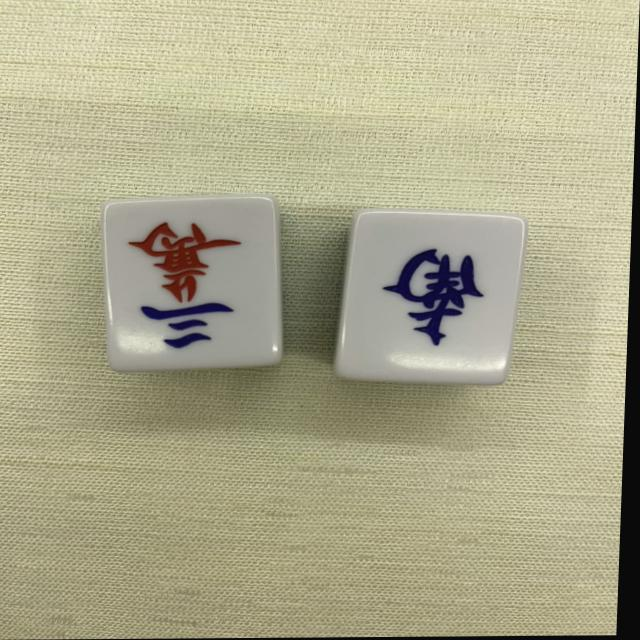m3: (99, 197, 286, 374)
south: (359, 221, 500, 367)
